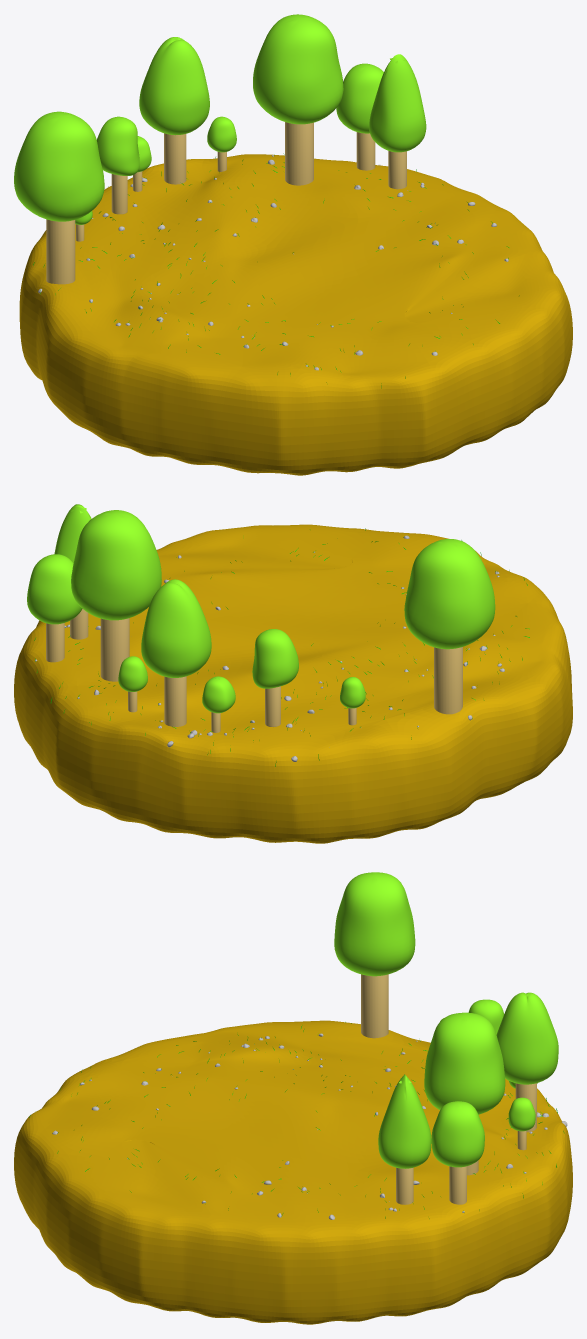
Rendered from terrain.glb.
3 renders of one model, top to bottom at view 1: azimuth 30°, elevation 25°; view 2: azimuth 150°, elevation 25°; view 3: azimuth 270°, elevation 25°, orthographic. The views are drawn at different scales.
Parts seen in each view (by area): view 1: ground, Sphere.004, Sphere.008, Sphere.003, Sphere.007, Sphere.006, Sphere.002, Object.008, Object.004, Object.003, Sphere.005, Object.006 (+2 smaller); view 2: ground, Sphere.008, Sphere.004, Sphere.003, Sphere.006, Sphere.002, Object.008, Object.004, Sphere.007, Object.003, Sphere.001, Sphere.005 (+4 smaller); view 3: ground, Sphere.008, Sphere.004, Sphere.003, Sphere.007, Sphere.006, Object.008, Sphere.005, Object.006, Object.007, Sphere.002.
Boxes of the visible parts, <box> form: ground: <box>19,154,572,475</box>; Sphere.004: <box>253,14,343,124</box>; Sphere.008: <box>14,111,104,221</box>; Sphere.003: <box>139,37,209,135</box>; Sphere.007: <box>369,54,426,152</box>; Sphere.006: <box>336,63,383,133</box>; Sphere.002: <box>97,116,139,175</box>; Object.008: <box>46,219,75,284</box>; Object.004: <box>285,122,313,185</box>; Object.003: <box>164,133,186,184</box>; Sphere.005: <box>207,116,236,152</box>; Object.006: <box>356,132,375,170</box>; ground: <box>14,524,572,843</box>; Sphere.008: <box>404,539,495,649</box>; Sphere.004: <box>71,510,161,620</box>; Sphere.003: <box>141,579,211,677</box>; Sphere.006: <box>27,554,82,624</box>; Sphere.002: <box>252,629,298,688</box>; Object.008: <box>434,647,462,714</box>; Object.004: <box>100,618,129,681</box>; Sphere.007: <box>54,504,91,562</box>; Object.003: <box>164,676,186,726</box>; Sphere.001: <box>202,676,235,713</box>; Sphere.005: <box>118,656,147,691</box>; ground: <box>14,1020,572,1324</box>; Sphere.008: <box>334,872,415,976</box>; Sphere.004: <box>424,1012,505,1114</box>; Sphere.003: <box>496,992,558,1084</box>; Sphere.007: <box>378,1074,431,1168</box>; Sphere.006: <box>431,1101,484,1167</box>; Object.008: <box>361,974,388,1038</box>; Sphere.005: <box>508,1097,535,1131</box>; Object.006: <box>449,1166,466,1204</box>; Object.007: <box>396,1167,413,1204</box>; Sphere.002: <box>468,999,504,1034</box>.
Bounding box in the file's own units: 9.85 × 5.3 × 10.42.
